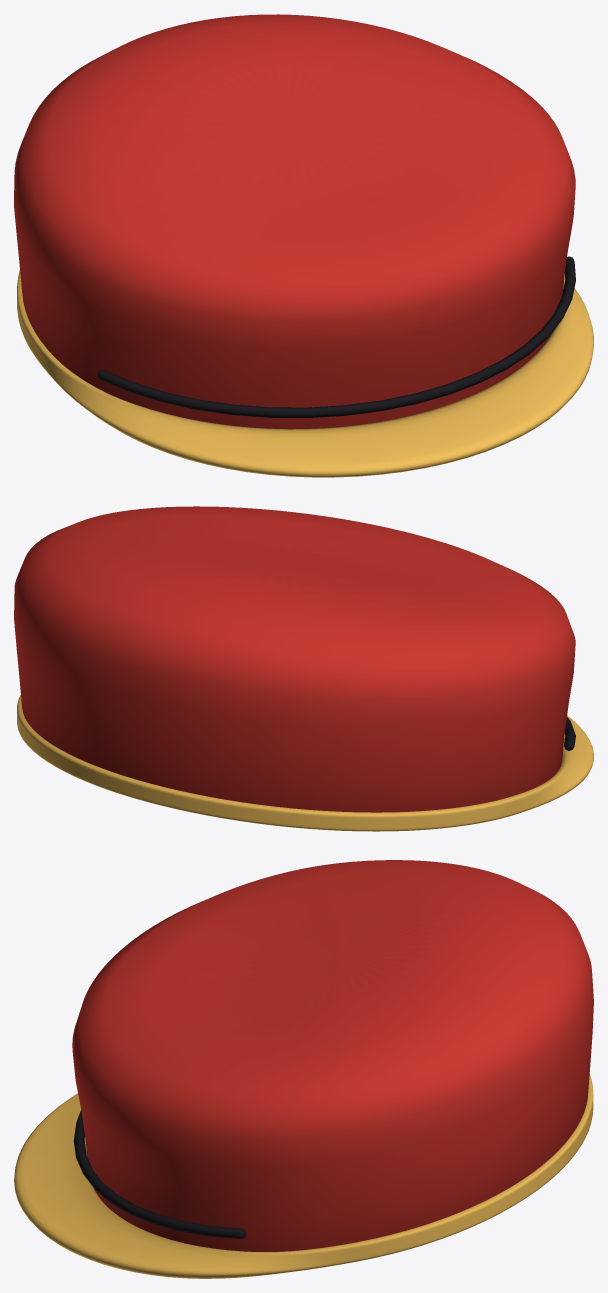
The model's file is hw_fisher.glb.
3 renders of one model, top to bottom at view 1: azimuth 30°, elevation 25°; view 2: azimuth 150°, elevation 25°; view 3: azimuth 270°, elevation 25°, orthographic.
Visible parts, largest first — view 1: hw_fisher, hw_fisher_peak, hw_fisher_cord; view 2: hw_fisher, hw_fisher_peak; view 3: hw_fisher, hw_fisher_peak, hw_fisher_cord.
Boxes of the visible parts, bbox=[...] form: hw_fisher: bbox=[14, 14, 575, 429]; hw_fisher_peak: bbox=[17, 270, 593, 477]; hw_fisher_cord: bbox=[98, 256, 575, 417]; hw_fisher: bbox=[14, 506, 575, 812]; hw_fisher_peak: bbox=[17, 695, 593, 831]; hw_fisher: bbox=[72, 860, 593, 1251]; hw_fisher_peak: bbox=[14, 1074, 593, 1278]; hw_fisher_cord: bbox=[73, 1110, 246, 1238].
Size of the model in its own units: 0.8579 by 0.4142 by 0.8486.
